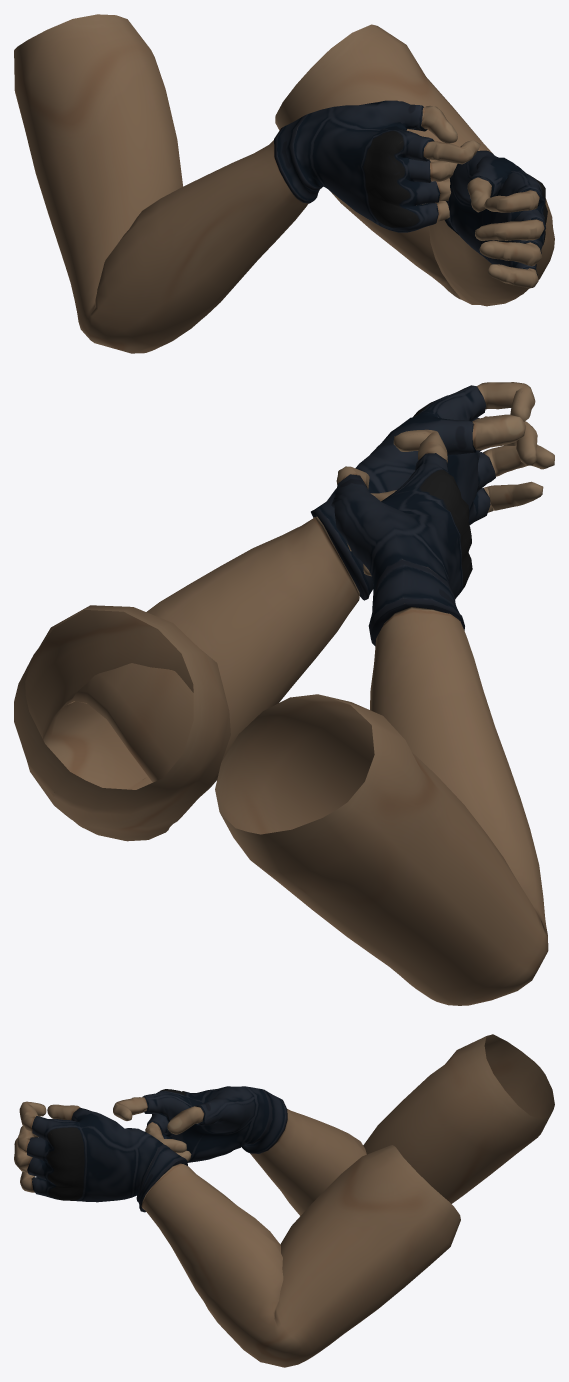
The model's file is arms_smg.fbx.
3 renders of one model, top to bottom at view 1: azimuth 30°, elevation 25°; view 2: azimuth 150°, elevation 25°; view 3: azimuth 270°, elevation 25°, orthographic. The views are drawn at different scales.
Visible parts, largest first — view 1: glove_low; view 2: glove_low; view 3: glove_low.
Boxes of the visible parts, x1,y1,x2,y2 form: glove_low: (14,14,554,353); glove_low: (14,382,554,1005); glove_low: (14,1034,554,1367).
Size of the model in its own units: 315 by 198 by 436.
